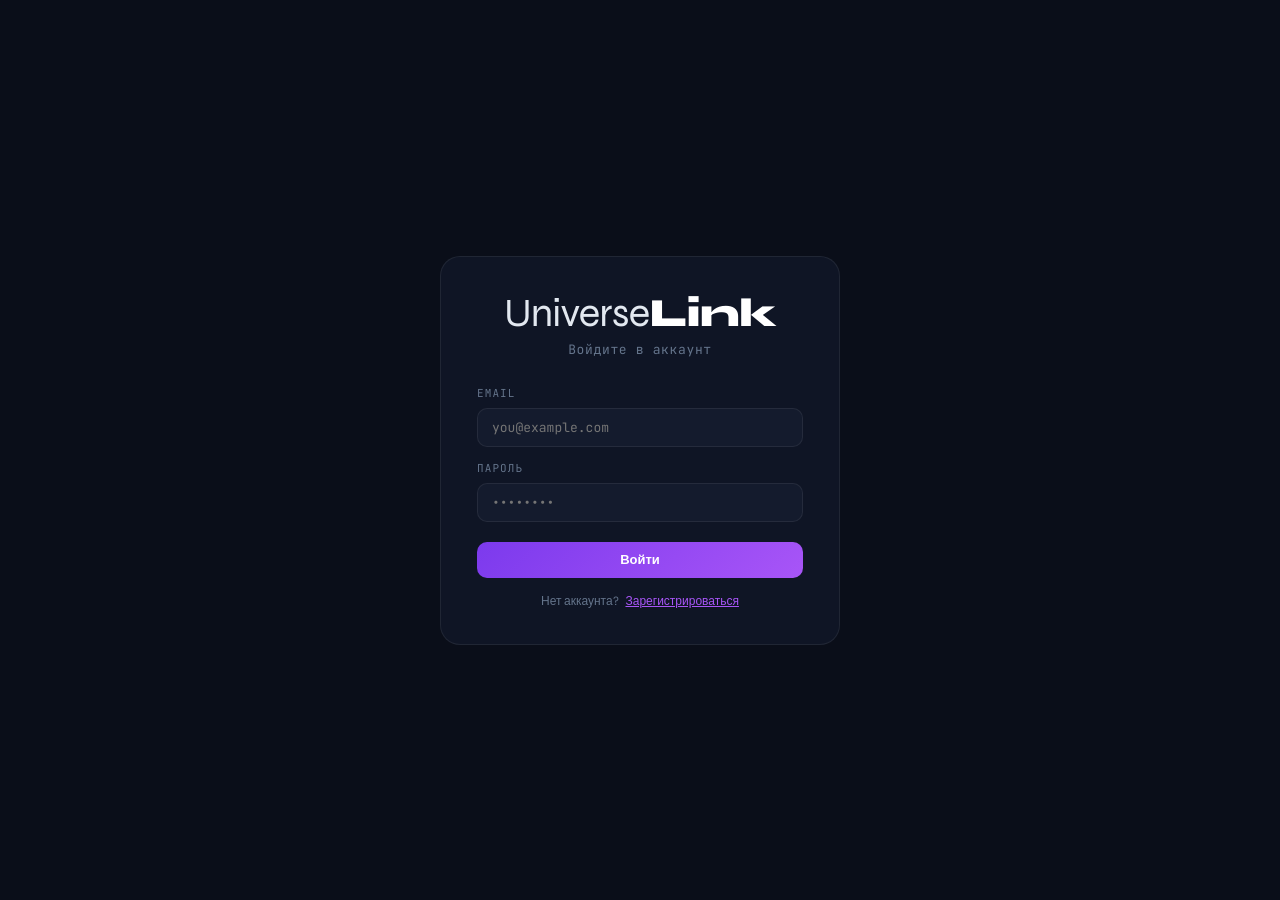
Test: App auth validation › maps backend auth errors to readable UI message
The width and height of the screenshot is (1280, 900).
Type "user@mail.com" into the field with placeholder "you@example.com" at (640, 427), box 477,408 -> 803,446
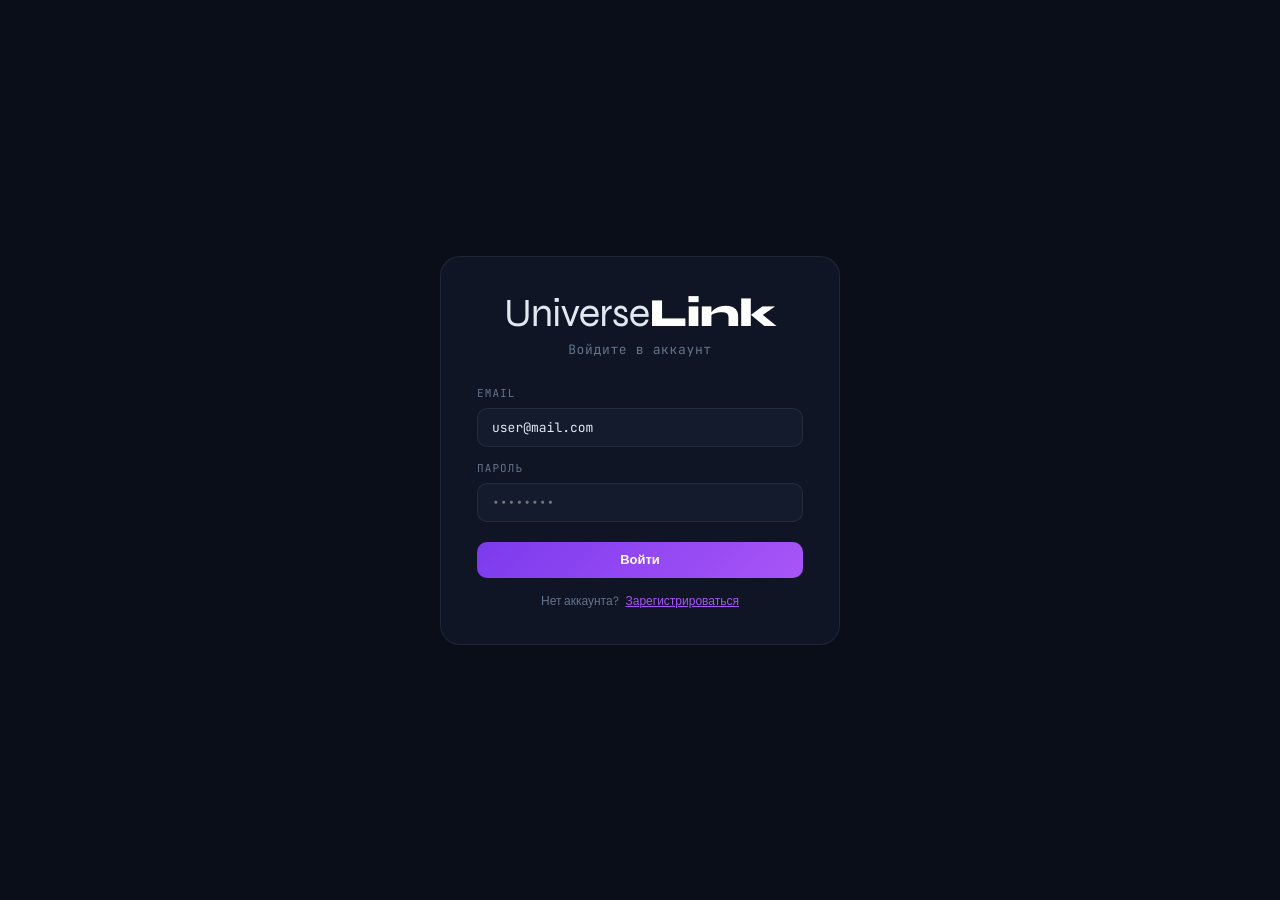
Type "qwerty123" into the password field with placeholder "••••••••" at (640, 502), box 477,482 -> 803,522
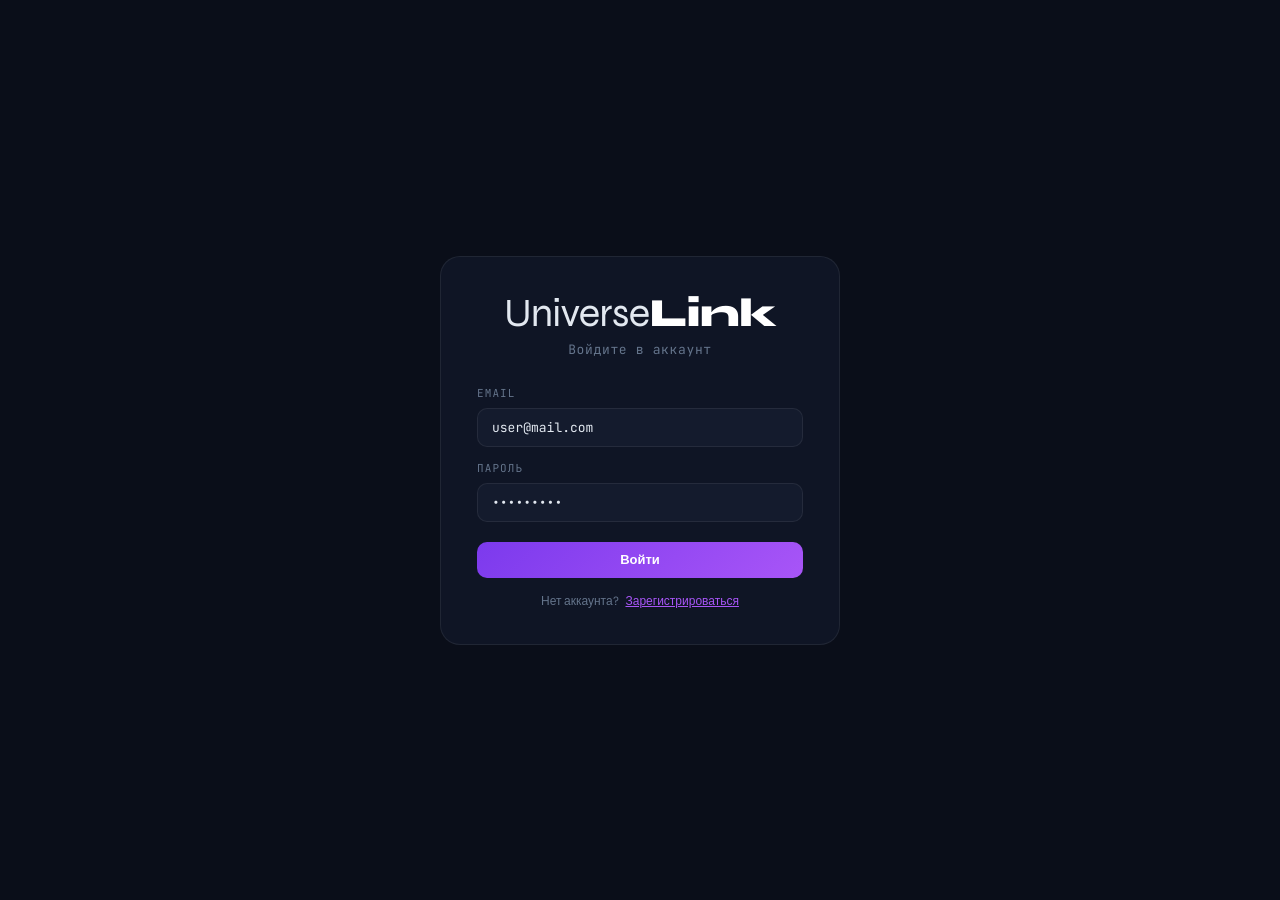
Click the button with class "btn-create" at (640, 560), box 477,542 -> 803,578
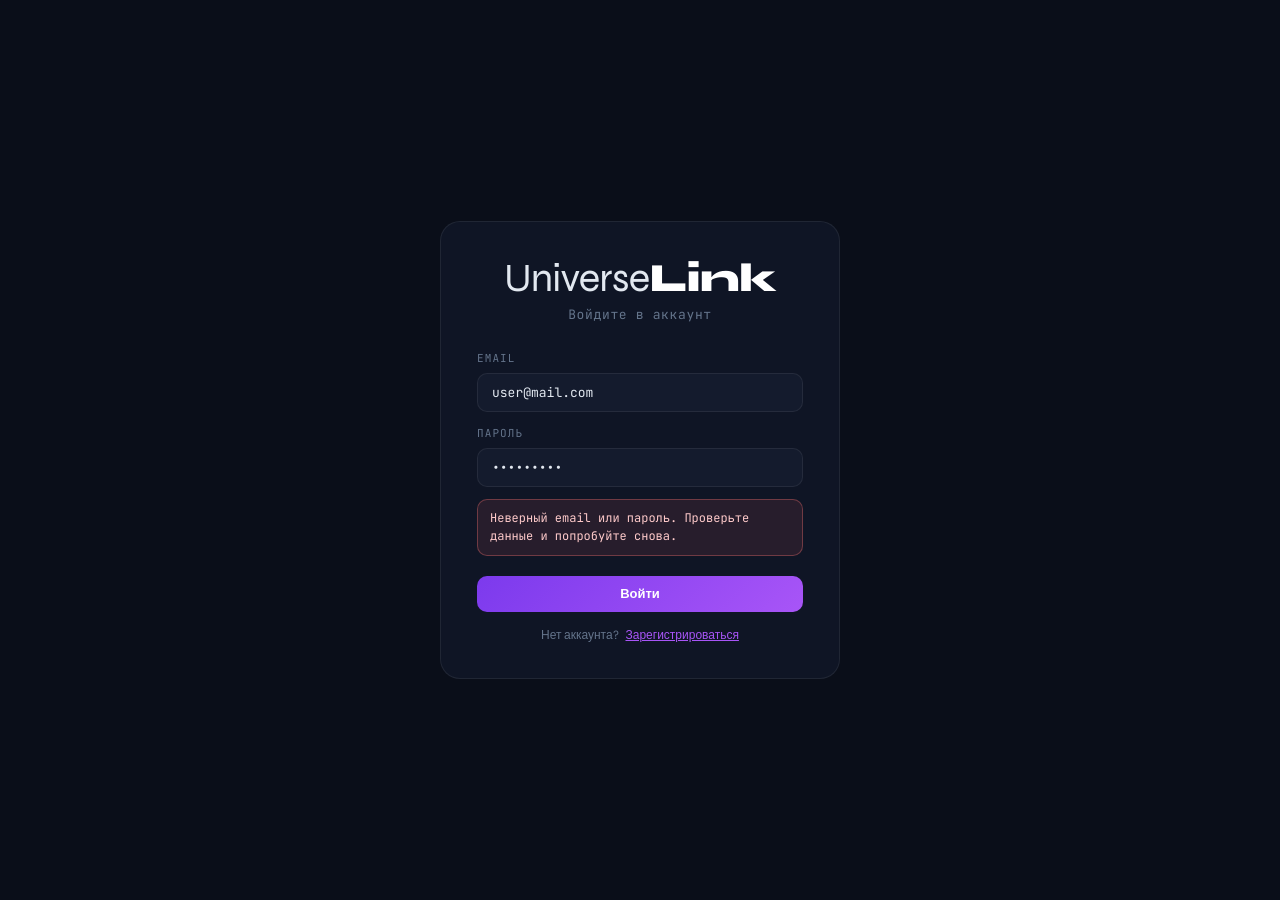
Check: the text with class "auth-error" reads "Неверный email или пароль. Проверьте данные и попробуйте снова.", box 490,510 -> 749,544
